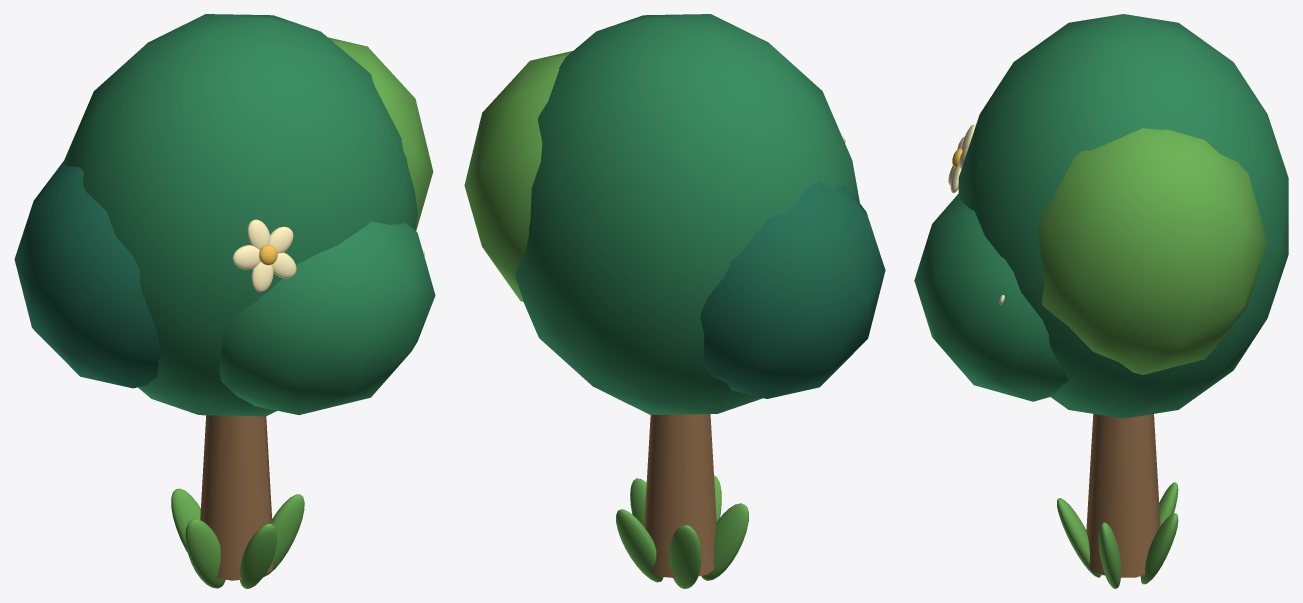
Rendered from tree.glb.
3 views of the same model, side by side, from view 1: azimuth 30°, elevation 25°; view 2: azimuth 150°, elevation 25°; view 3: azimuth 270°, elevation 25° (orthographic).
Parts seen in each view (by area): view 1: Batched_Garden_JadeLeaves_177, Batched_Garden_DeepLeaves_179, Batched_Garden_LimeLeaves_178, Batched_Garden_TreeTrunk_176, Batched_Garden_FlowerPetals_180; view 2: Batched_Garden_JadeLeaves_177, Batched_Garden_DeepLeaves_179, Batched_Garden_LimeLeaves_178, Batched_Garden_TreeTrunk_176; view 3: Batched_Garden_JadeLeaves_177, Batched_Garden_LimeLeaves_178, Batched_Garden_TreeTrunk_176, Batched_Garden_FlowerPetals_180.
Part boxes in pixels (bbox=[...]): Batched_Garden_JadeLeaves_177: bbox=[63, 14, 435, 416]; Batched_Garden_DeepLeaves_179: bbox=[14, 161, 161, 388]; Batched_Garden_LimeLeaves_178: bbox=[171, 37, 433, 588]; Batched_Garden_TreeTrunk_176: bbox=[200, 415, 273, 580]; Batched_Garden_FlowerPetals_180: bbox=[232, 219, 424, 291]; Batched_Garden_JadeLeaves_177: bbox=[515, 14, 859, 414]; Batched_Garden_DeepLeaves_179: bbox=[700, 182, 885, 398]; Batched_Garden_LimeLeaves_178: bbox=[464, 51, 748, 588]; Batched_Garden_TreeTrunk_176: bbox=[644, 414, 716, 578]; Batched_Garden_JadeLeaves_177: bbox=[914, 14, 1288, 418]; Batched_Garden_LimeLeaves_178: bbox=[1038, 128, 1267, 588]; Batched_Garden_TreeTrunk_176: bbox=[1086, 414, 1160, 577]; Batched_Garden_FlowerPetals_180: bbox=[948, 124, 1004, 304].
Bounding box in the file's own units: 2.49 × 3.4 × 2.11.
